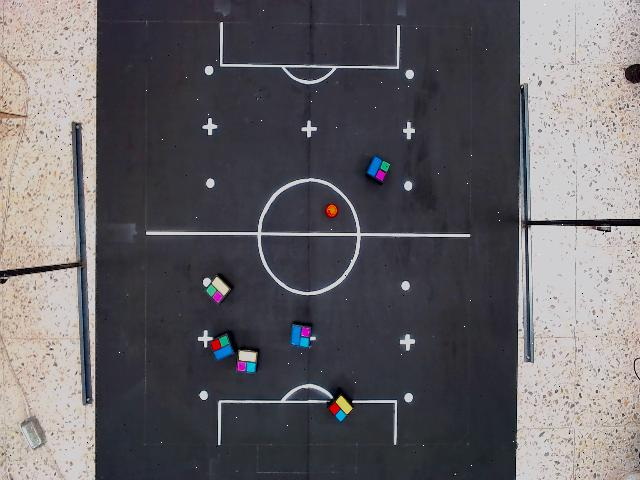robot: (204, 274, 232, 307), (327, 393, 355, 425), (208, 332, 236, 363), (364, 155, 393, 184), (235, 348, 260, 376), (289, 321, 312, 350)
